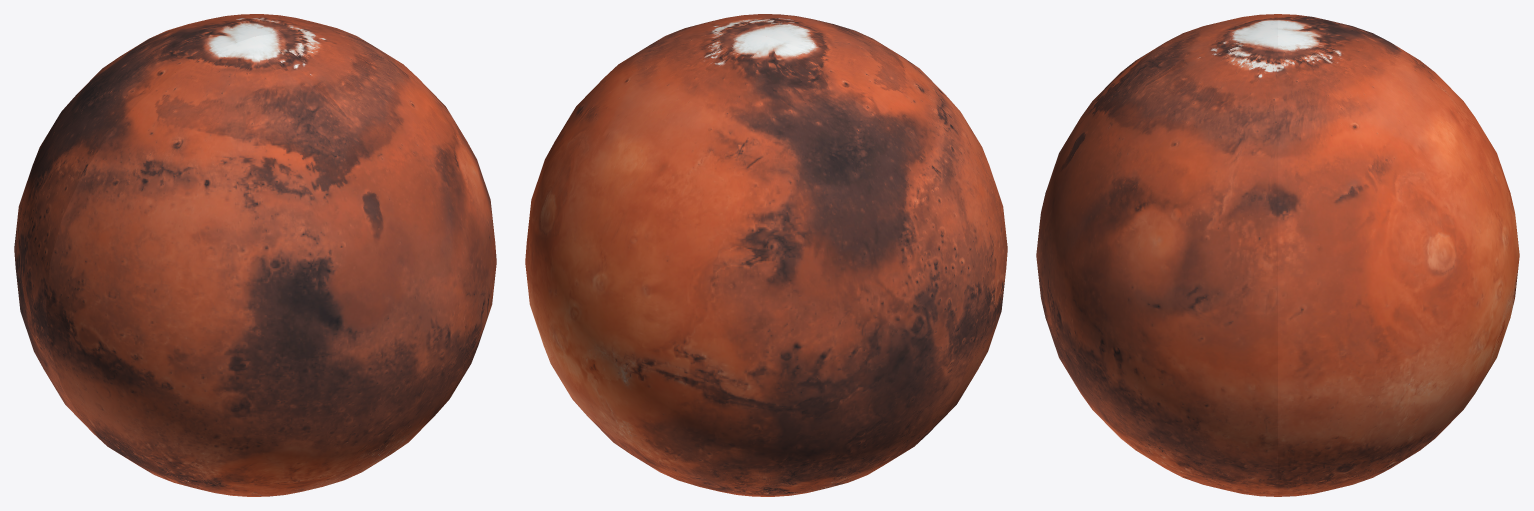
Rendered from Mars.gltf.
The picture shows the model from 3 angles, left to right: view 1: azimuth 30°, elevation 25°; view 2: azimuth 150°, elevation 25°; view 3: azimuth 270°, elevation 25°; orthographic projection.
Visible parts, largest first — view 1: Sphere.106, Sphere.105; view 2: Sphere.105, Sphere.106; view 3: Sphere.105, Sphere.106.
Boxes of the visible parts, x1,y1,x2,y2 form: Sphere.106: (46,30,496,496); Sphere.105: (14,14,370,443); Sphere.105: (525,30,975,496); Sphere.106: (651,14,1007,443); Sphere.105: (1278,14,1519,496); Sphere.106: (1036,14,1277,496).
Size of the model in its own units: 2 by 2 by 2.
Materials: 6 (6 with a texture image).
